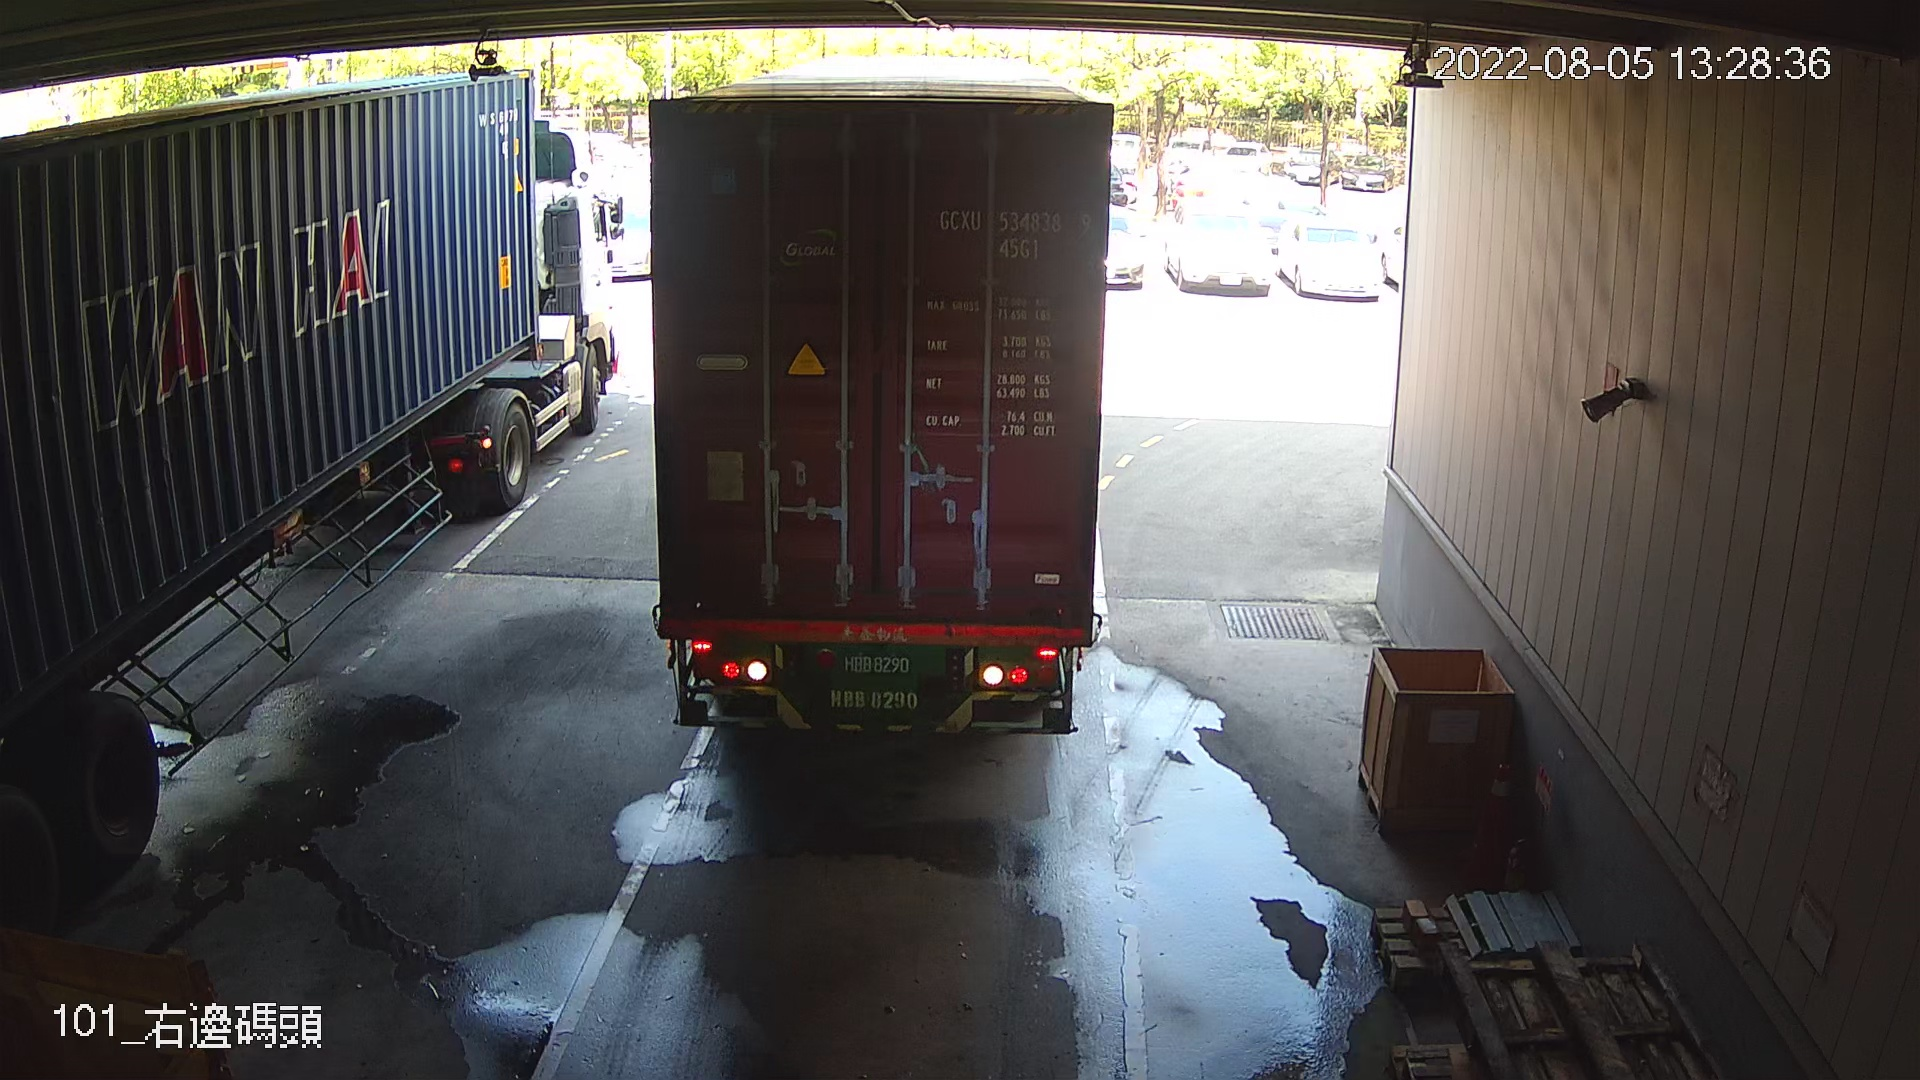container: (926, 198, 1098, 270)
